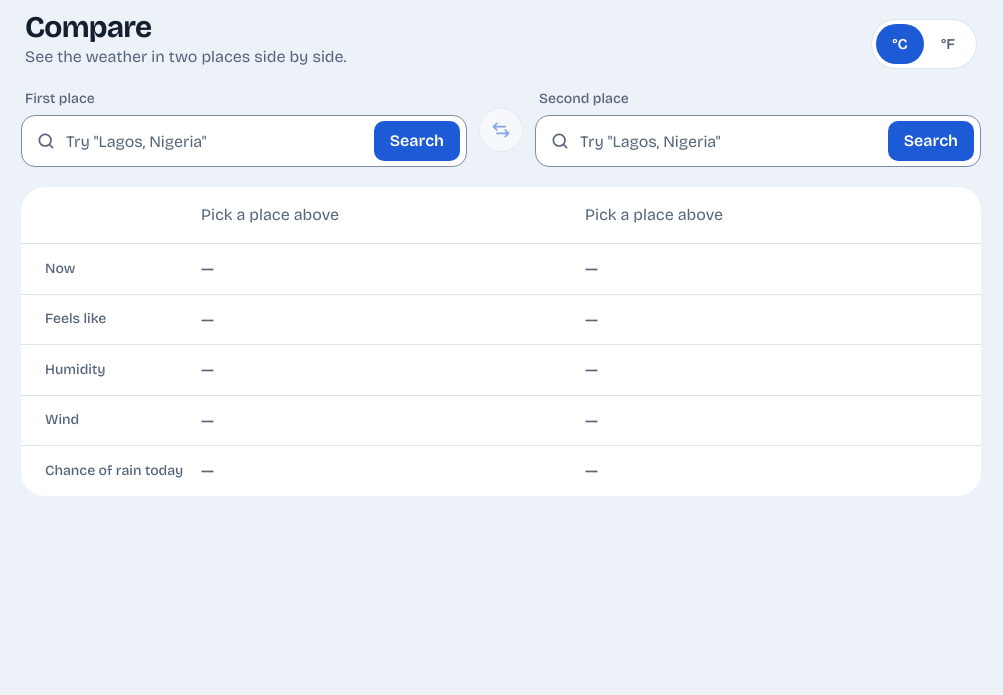
it: Compare page › loads both places and lines their weather up row by row
Type "Lagos" into the dropdown named "First place" at (215, 141), box [60,116,370,166]
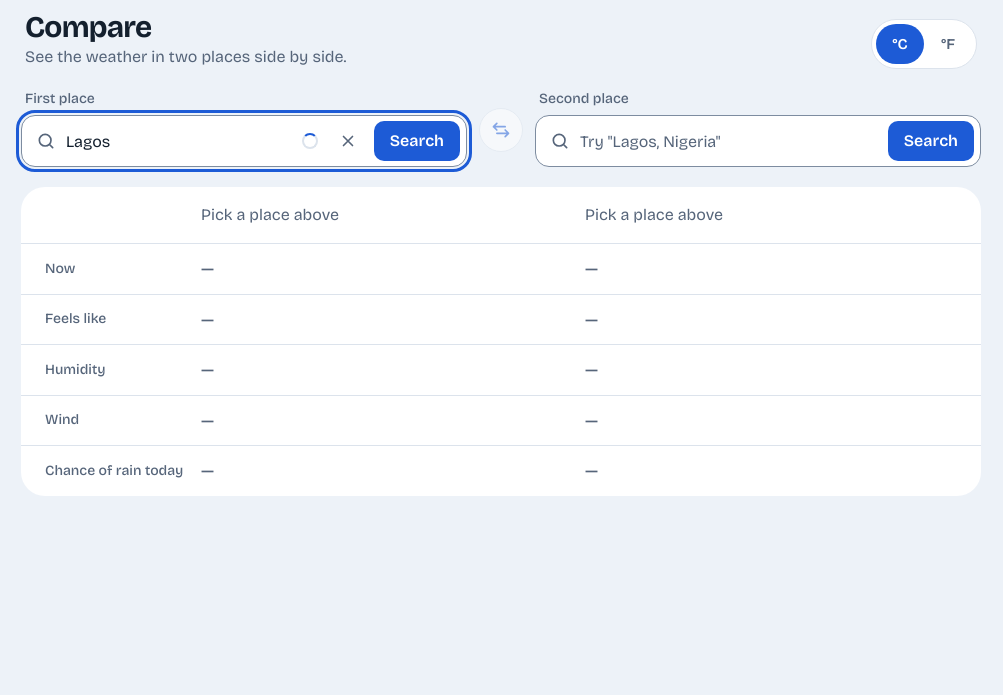
Click the 1st button "Search" at (417, 141), box [374,121,460,161]
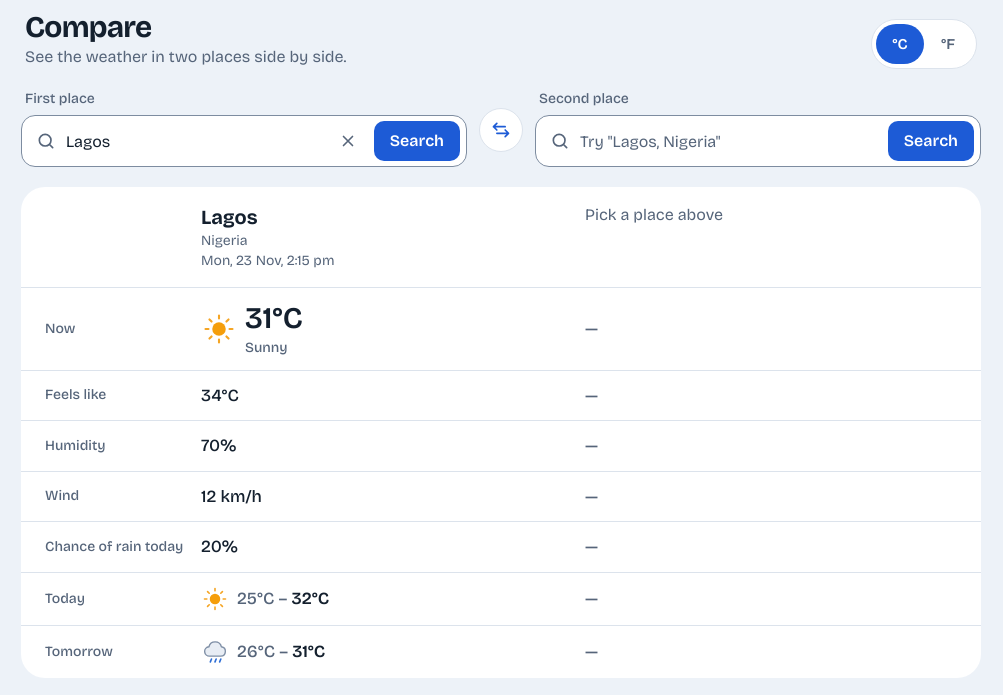
Type "Accra" into the dropdown named "Second place" at (729, 141), box [574,116,884,166]
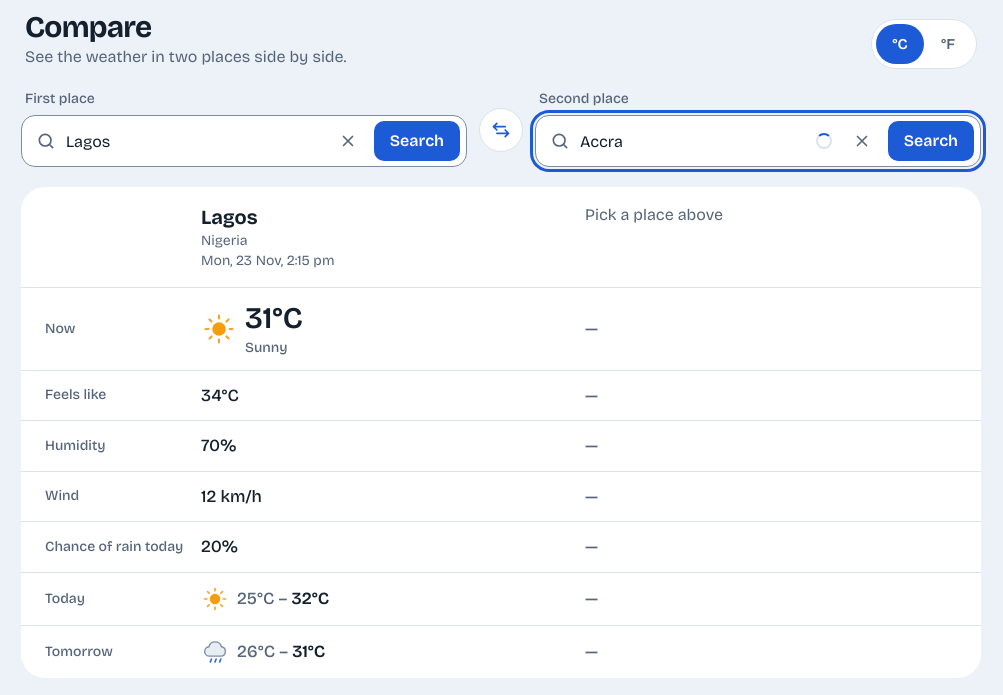
Click the button "Search" below "Second place" at (931, 141), box [888,121,974,161]
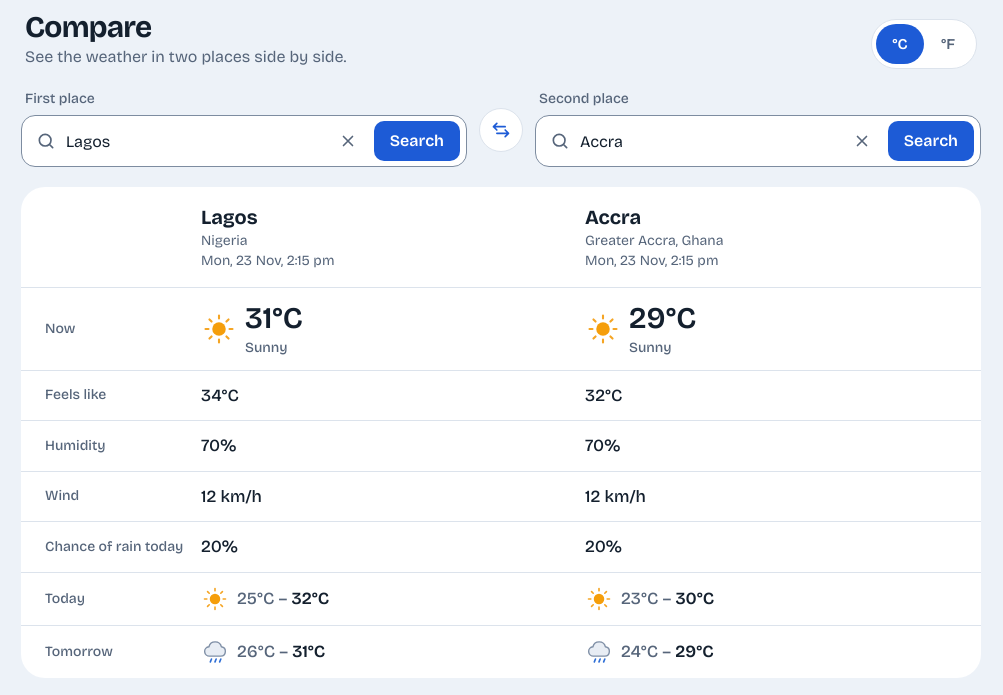
expect the column heading "Lagos Nigeria Mon, 23 Nov, 2:15 pm" is shown: met, box [200,204,334,269]
expect the text "Accra" is shown: met, box [585,205,641,229]
expect the column heading "Accra Greater Accra, Ghana Mon, 23 Nov, 2:15 pm" is shown: met, box [584,204,724,269]
